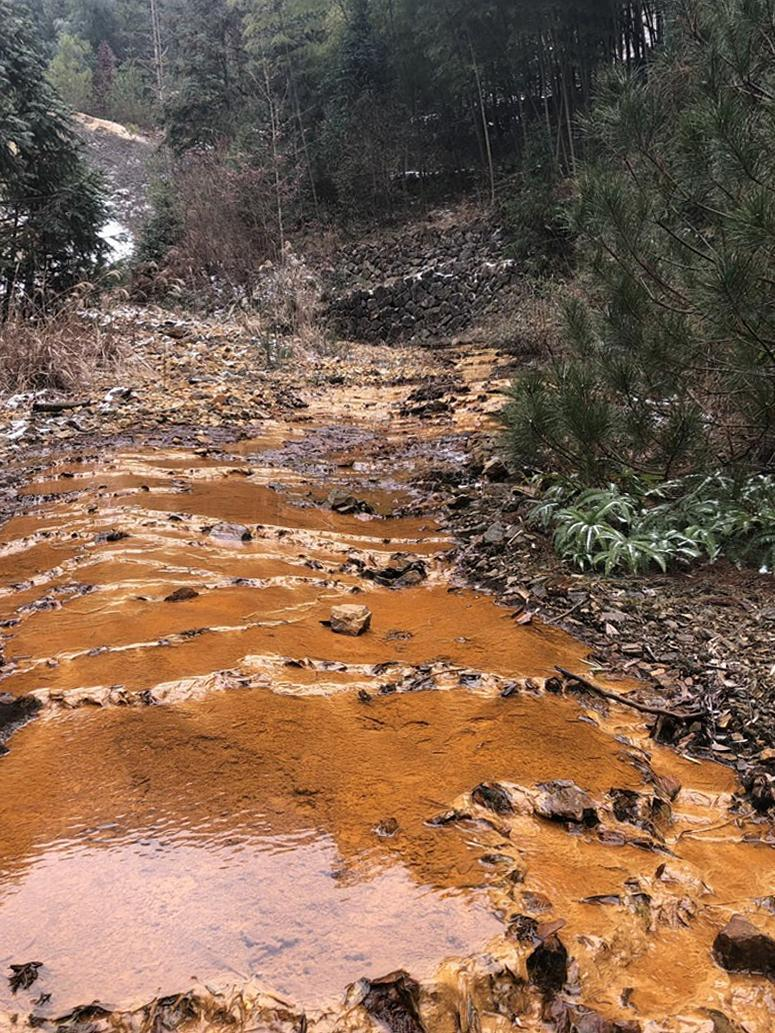Acid Pollution: (3, 478, 513, 1033)
